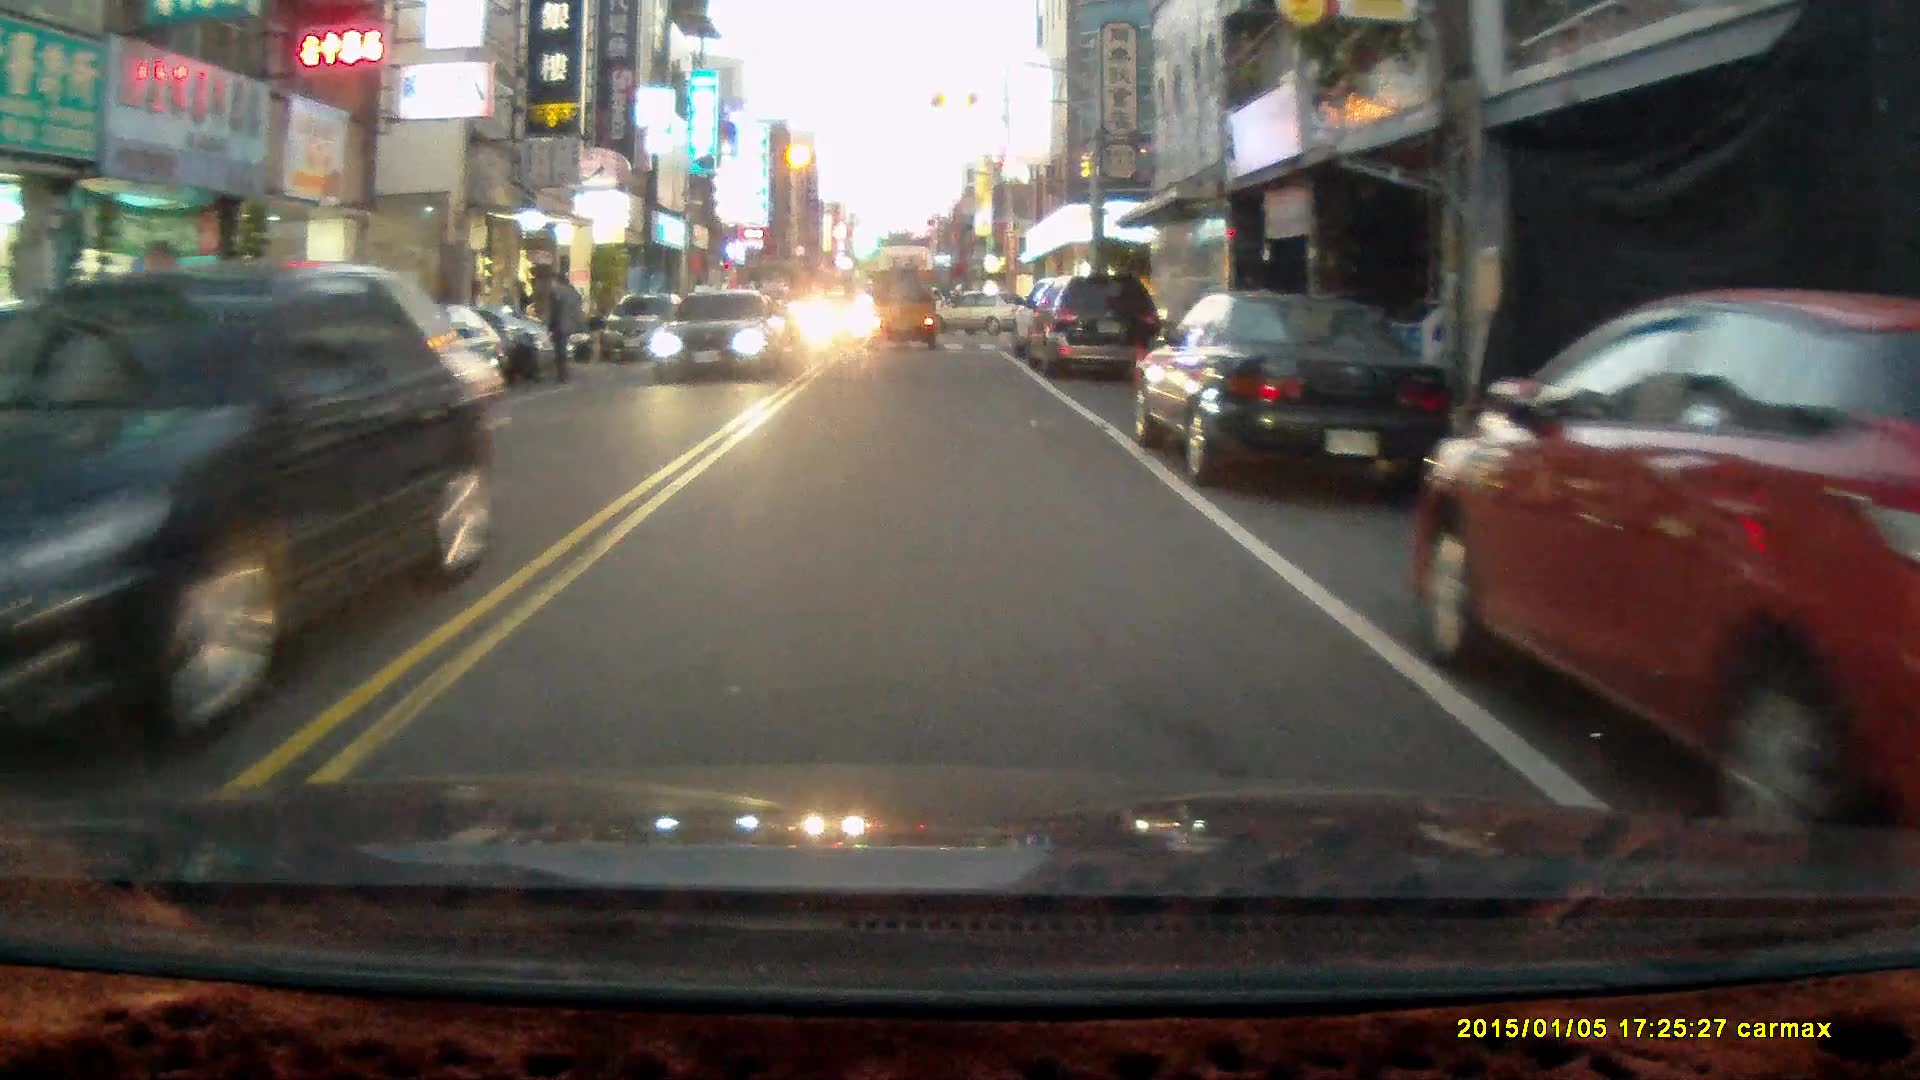pedestrian: (543, 268, 583, 386)
vehicle: (1416, 286, 1920, 824), (14, 258, 501, 785), (1131, 287, 1458, 498), (1020, 274, 1166, 381), (653, 286, 785, 383), (601, 288, 696, 355), (867, 270, 938, 352)
